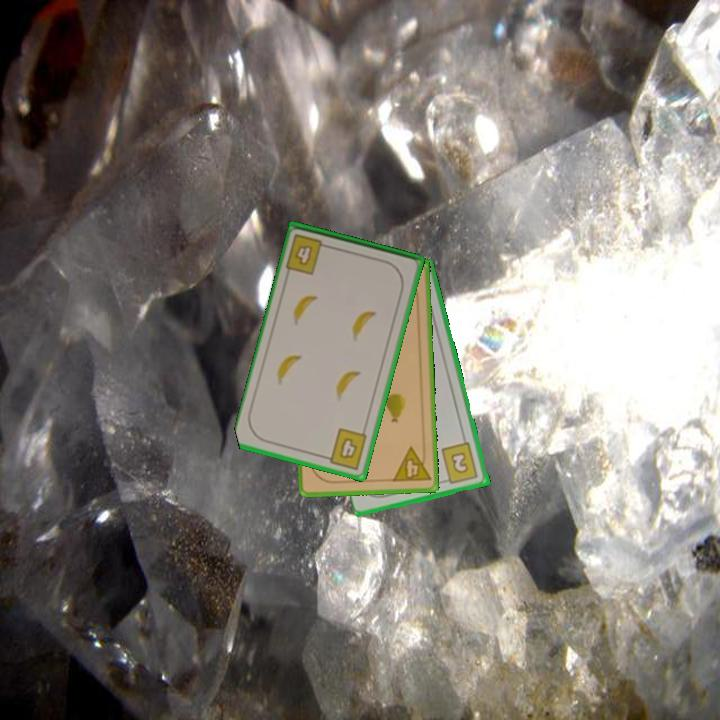2b: (438, 439, 481, 487)
4b: (320, 424, 370, 473), (283, 230, 334, 278)
4p: (389, 443, 433, 485)
